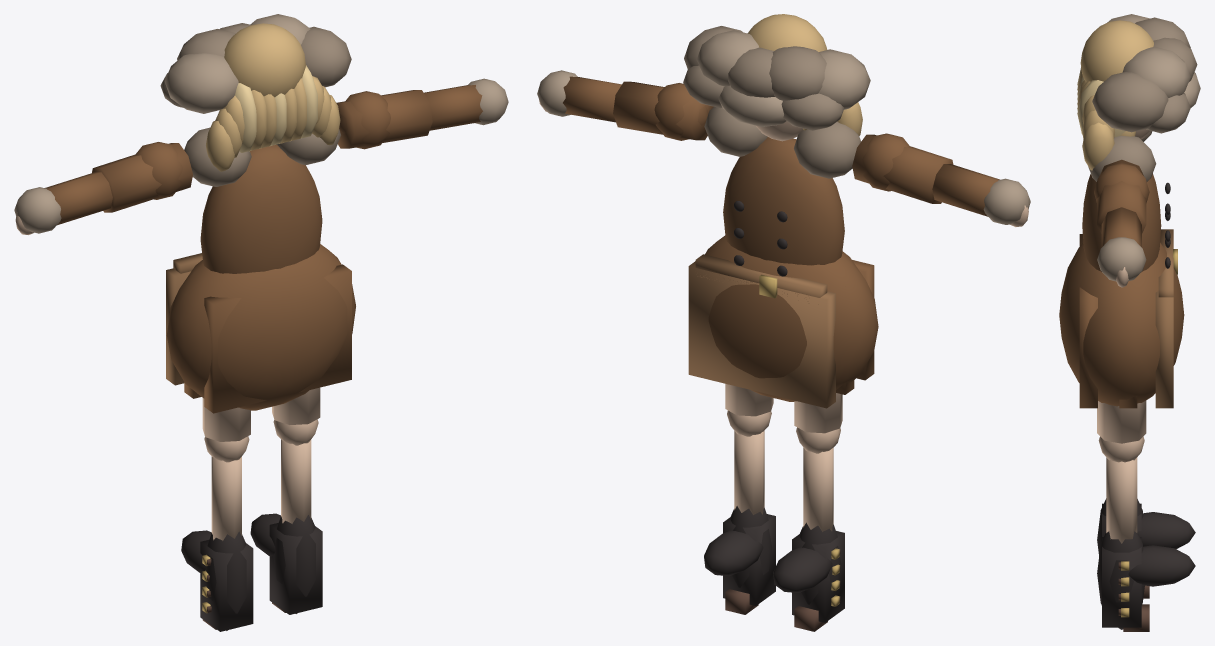
Rendered from character.glb.
The picture shows the model from 3 angles, left to right: view 1: azimuth 30°, elevation 25°; view 2: azimuth 150°, elevation 25°; view 3: azimuth 270°, elevation 25°; orthographic projection.
Parts seen in each view (by area): view 1: Coat_Skirt, Body_Core, Coat_Sleeve_Upper (×2), Boot_Shaft (×2), Coat_Skirt_Panel (×2), Bare_Shin (×2), Hair_Cap, Coat_Sleeve_Forearm (×2), Tall_Leather_Boot (×2), Fur_Collar_Clump_00, Sleeve_Shoulder (×2), Shoulder_Fur (×2) (+10 smaller); view 2: Coat_Skirt, Body_Core, Coat_Skirt_Panel, Coat_Sleeve_Upper (×2), Bare_Shin (×2), Shoulder_Fur (×2), Coat_Sleeve_Forearm (×2), Boot_Foot (×2), Boot_Shaft (×2), Sleeve_Shoulder (×2), Fur_Cuff (×2), Fur_Collar_Clump_01 (+12 smaller); view 3: Coat_Skirt, Boot_Foot (×2), Coat_Skirt_Panel (×2), Fur_Collar_Clump_04, Hair_Cap, Body_Core, Bare_Shin, Boot_Shaft, Fur_Collar_Clump_03, Bare_Thigh, Tall_Leather_Boot (×2), Coat_Sleeve_Upper (+13 smaller).
Boxes of the visible parts, x1,y1,x2,y2 form: Coat_Skirt: [166, 244, 355, 410]; Body_Core: [200, 145, 322, 273]; Coat_Sleeve_Upper (×2): [92, 90, 432, 212]; Boot_Shaft (×2): [200, 523, 322, 631]; Coat_Skirt_Panel (×2): [166, 264, 351, 413]; Bare_Shin (×2): [211, 439, 311, 540]; Hair_Cap: [224, 23, 305, 97]; Coat_Sleeve_Forearm (×2): [44, 85, 482, 225]; Tall_Leather_Boot (×2): [205, 515, 315, 630]; Fur_Collar_Clump_00: [164, 53, 238, 113]; Sleeve_Shoulder (×2): [135, 91, 390, 199]; Shoulder_Fur (×2): [184, 127, 340, 186]; Coat_Skirt: [705, 235, 878, 401]; Body_Core: [723, 137, 844, 265]; Coat_Skirt_Panel: [688, 261, 835, 408]; Coat_Sleeve_Upper (×2): [613, 81, 953, 203]; Bare_Shin (×2): [734, 430, 833, 531]; Shoulder_Fur (×2): [704, 107, 861, 178]; Coat_Sleeve_Forearm (×2): [563, 76, 999, 216]; Boot_Foot (×2): [704, 530, 832, 592]; Boot_Shaft (×2): [723, 514, 844, 622]; Sleeve_Shoulder (×2): [654, 83, 909, 191]; Fur_Cuff (×2): [537, 70, 1030, 224]; Fur_Collar_Clump_01: [769, 46, 826, 100]; Coat_Skirt: [1059, 242, 1184, 406]; Boot_Foot (×2): [1128, 512, 1195, 586]; Coat_Skirt_Panel (×2): [1079, 234, 1173, 408]; Fur_Collar_Clump_04: [1092, 72, 1168, 132]; Hair_Cap: [1080, 20, 1153, 82]; Body_Core: [1082, 173, 1161, 272]; Bare_Shin: [1106, 457, 1137, 543]; Boot_Shaft: [1102, 537, 1141, 627]; Fur_Collar_Clump_03: [1122, 46, 1190, 97]; Bare_Thigh: [1097, 400, 1146, 443]; Tall_Leather_Boot (×2): [1097, 498, 1144, 629]; Coat_Sleeve_Upper: [1097, 159, 1146, 233].
Size of the model in its own units: 1.7 by 1.97 by 0.43.
